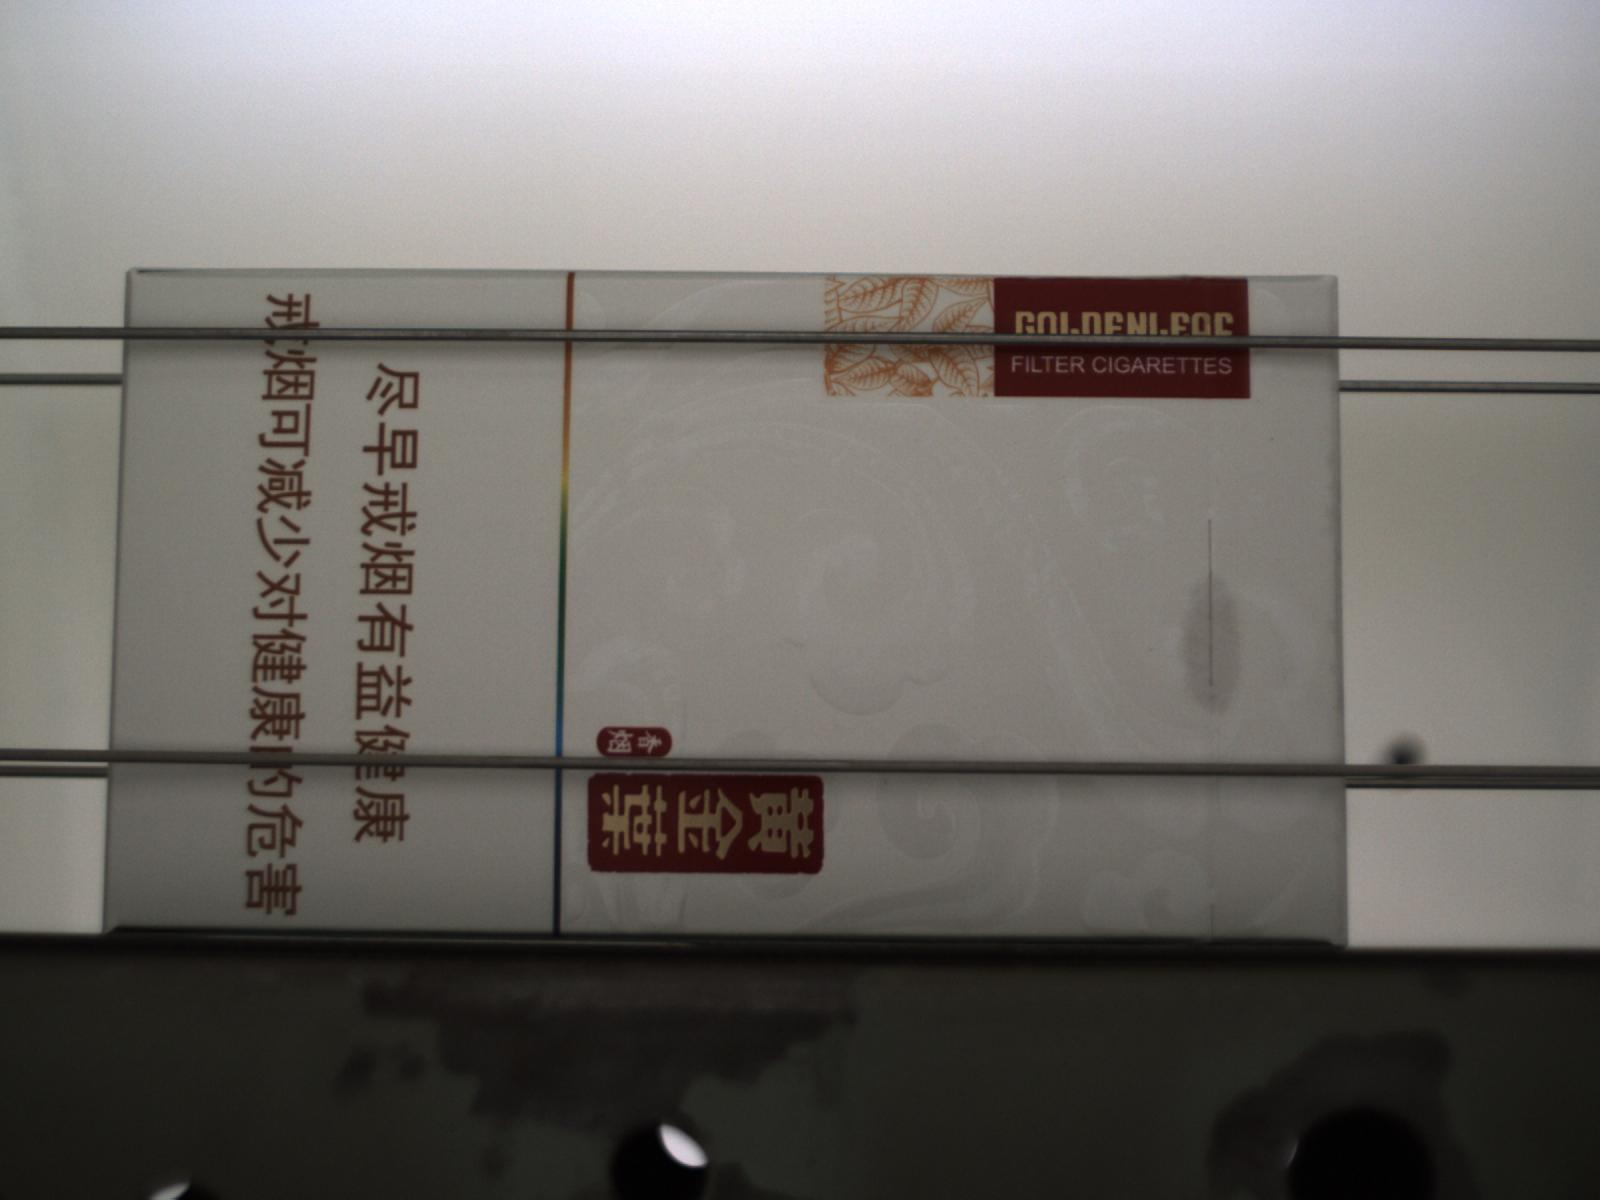areaOil: (1177, 574, 1238, 713)
dirtySpot: (1146, 644, 1157, 655), (1267, 435, 1277, 444)
